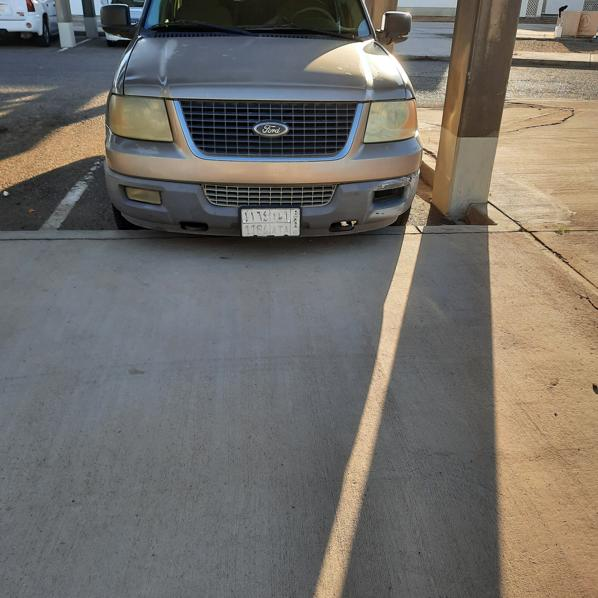numberplate: (242, 209, 300, 236)
